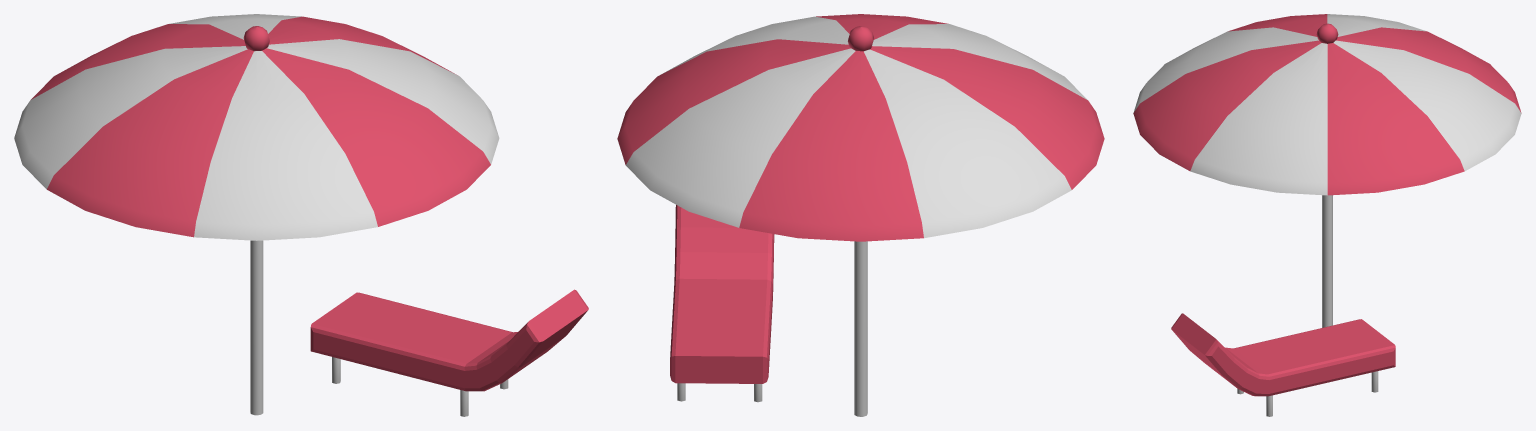
The model's file is guarda_sol_0.glb.
3 views of the same model, side by side, from view 1: azimuth 30°, elevation 25°; view 2: azimuth 150°, elevation 25°; view 3: azimuth 270°, elevation 25° (orthographic). The views are drawn at different scales.
Parts seen in each view (by area): view 1: guarda_sol_0_corpo; view 2: guarda_sol_0_corpo; view 3: guarda_sol_0_corpo.
Part boxes in pixels (x1=…): guarda_sol_0_corpo: x1=14, y1=14, x2=588, y2=416; guarda_sol_0_corpo: x1=617, y1=14, x2=1104, y2=416; guarda_sol_0_corpo: x1=1133, y1=14, x2=1521, y2=416.
Bounding box in the file's own units: 3.96 × 3.12 × 3.56.
